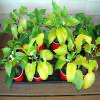Bell_pepper leaf: (66, 61, 77, 85), (55, 27, 67, 46), (38, 62, 49, 81), (25, 62, 35, 82), (84, 72, 95, 90), (41, 49, 54, 60), (36, 32, 46, 46), (74, 33, 83, 48), (88, 57, 97, 72), (82, 34, 92, 47), (49, 27, 56, 43), (21, 18, 27, 32)
